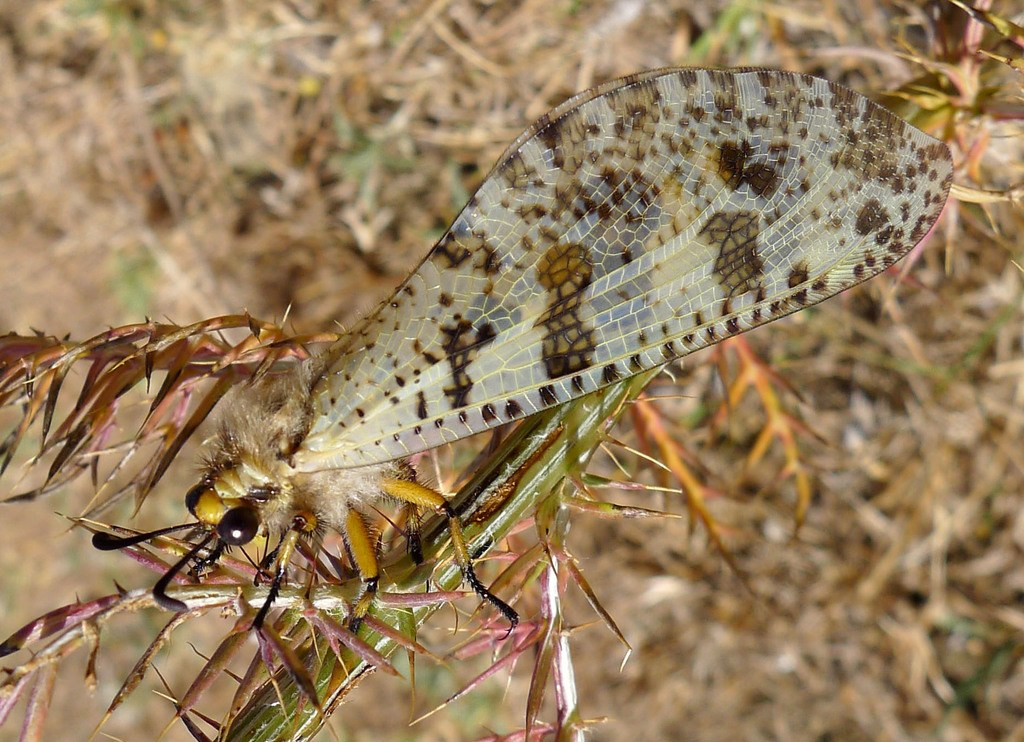insect: (0, 0, 1023, 741), (89, 69, 954, 720), (326, 104, 454, 210)
